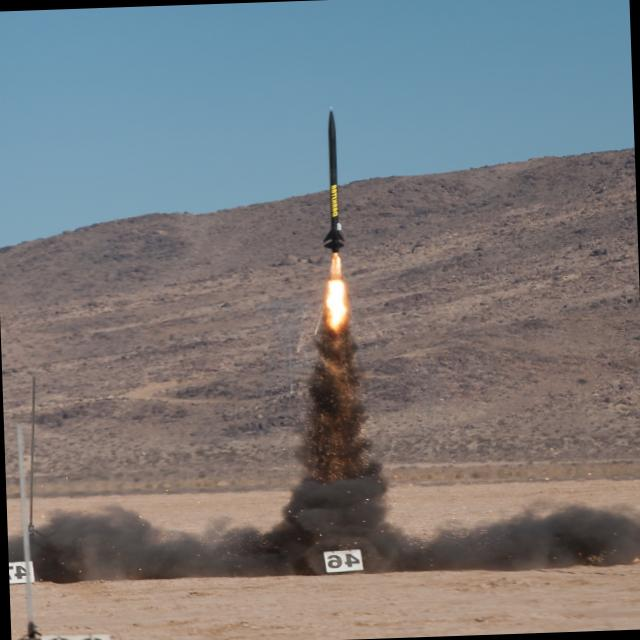rocket: (305, 98, 365, 352)
